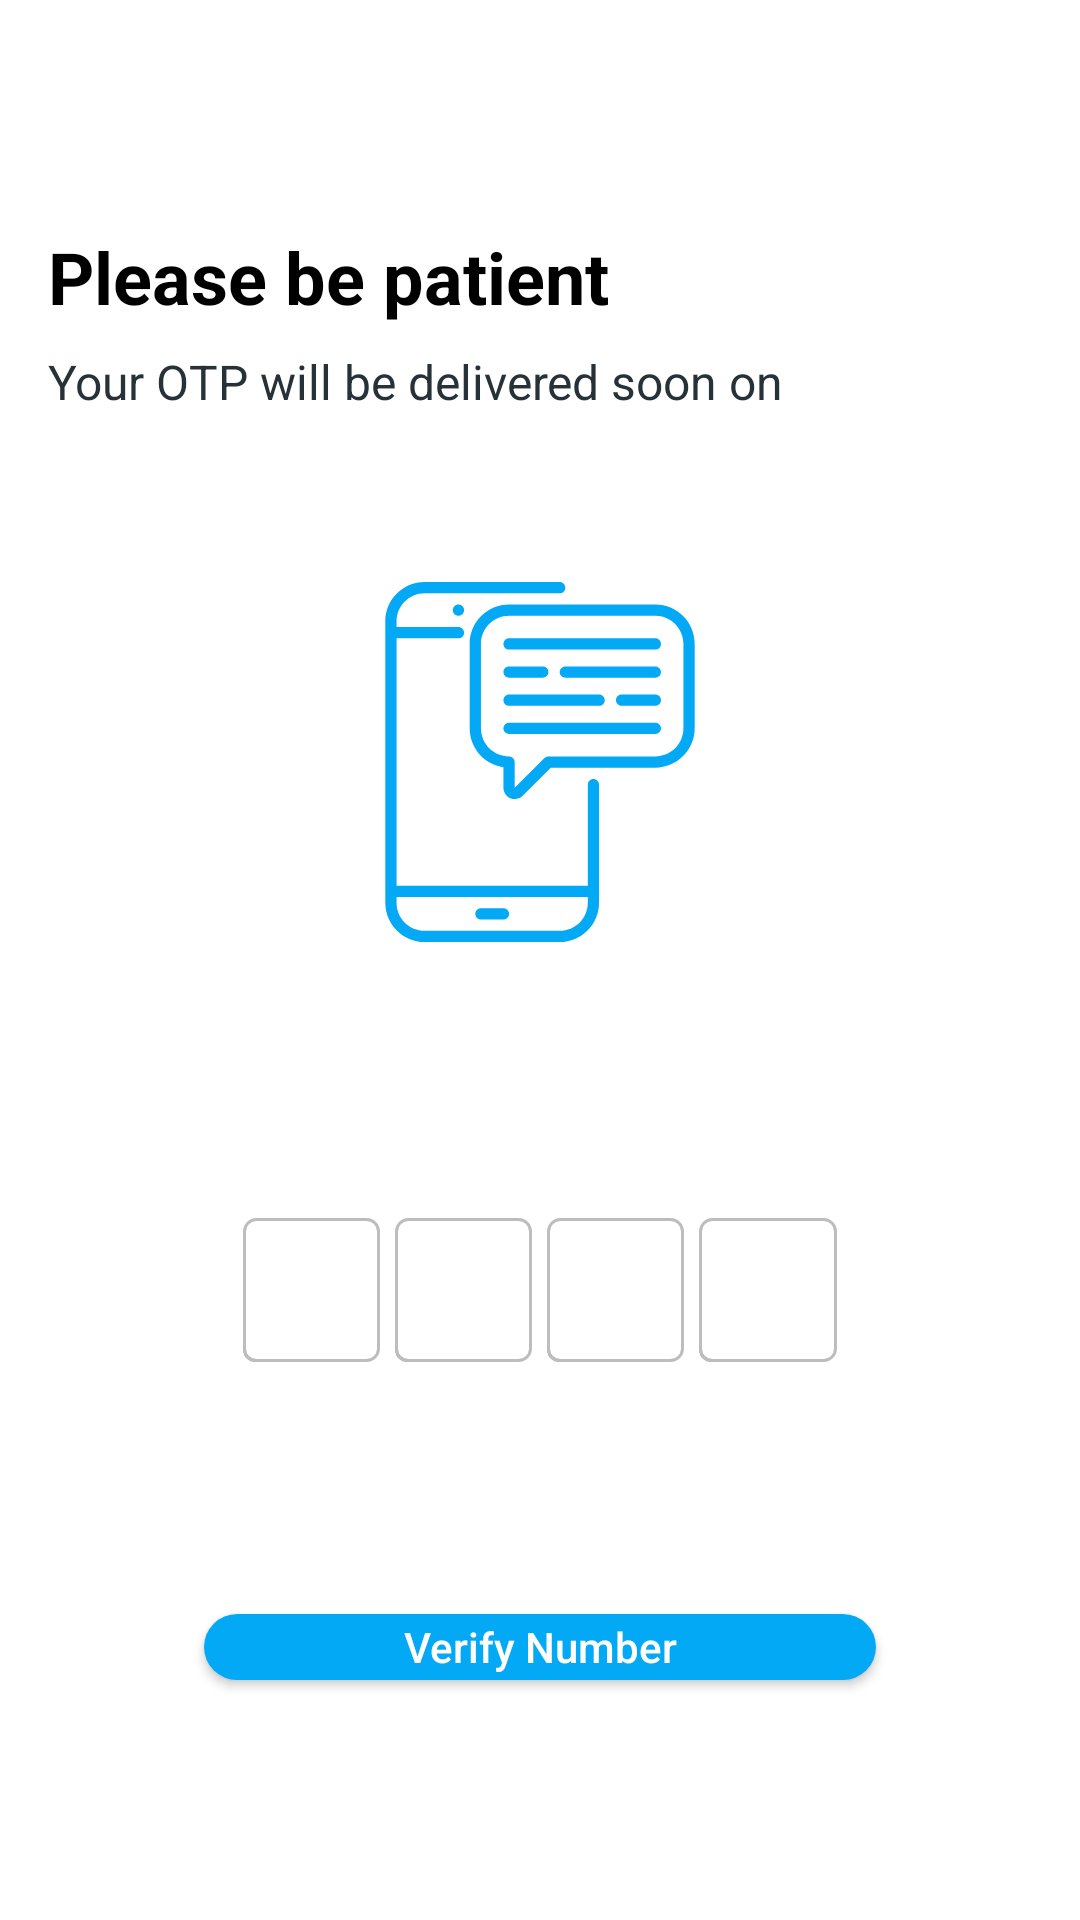

Icons on this 1080px×1920px Android screen, each with its box as (x1, y1, x2, y2):
message on phone: (385, 582, 695, 942)
